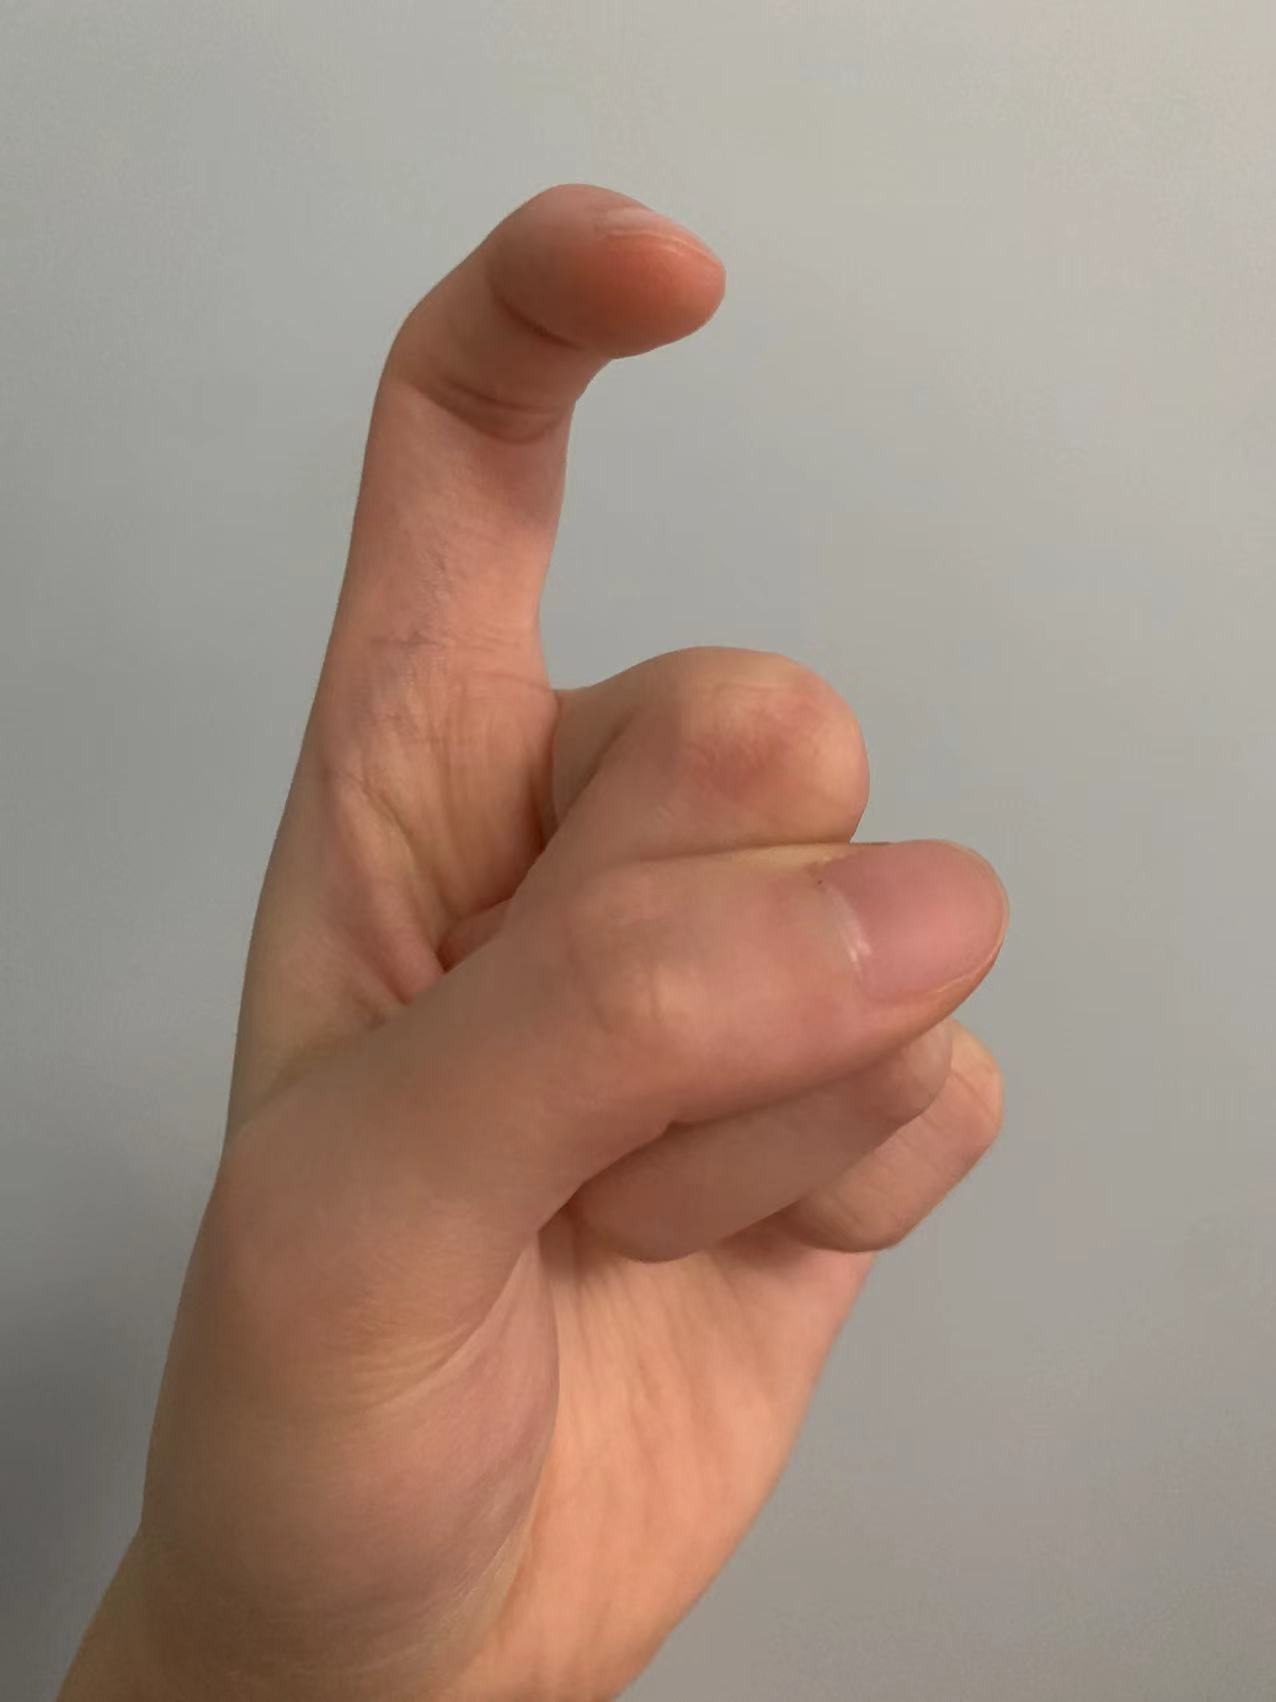anticlockwise: (162, 165, 1071, 1564)
